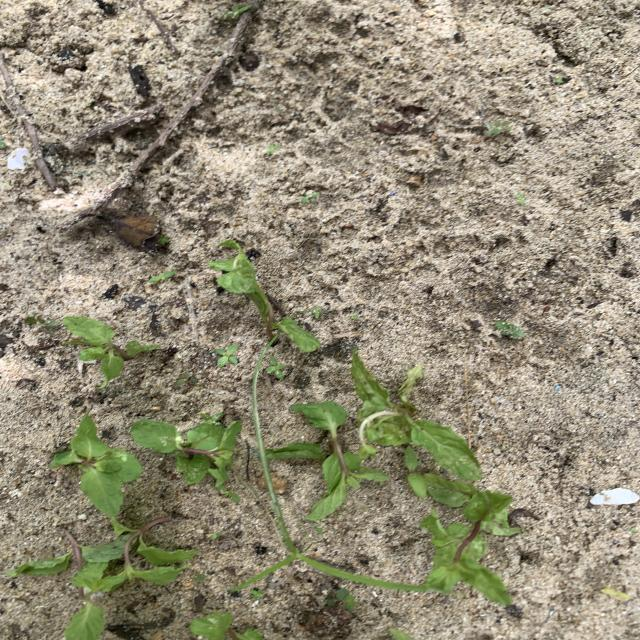crop: (351, 351, 482, 481), (266, 402, 387, 522), (209, 240, 320, 352), (420, 492, 521, 606), (66, 518, 196, 596), (51, 415, 142, 517), (131, 418, 241, 502), (62, 316, 159, 388), (189, 611, 265, 640), (65, 600, 104, 640), (8, 553, 70, 576), (25, 316, 59, 330)
weed: (234, 542, 428, 592), (252, 365, 301, 559), (326, 589, 357, 612), (213, 343, 239, 368), (266, 357, 288, 380), (408, 473, 427, 498), (147, 269, 175, 285), (404, 445, 418, 471)
